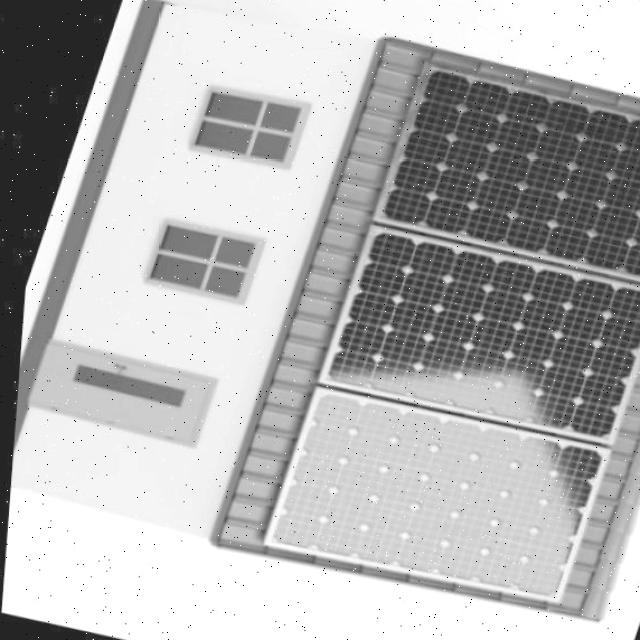Normal Solar Panel: (256, 370, 612, 620), (314, 211, 640, 458), (365, 50, 640, 298)
